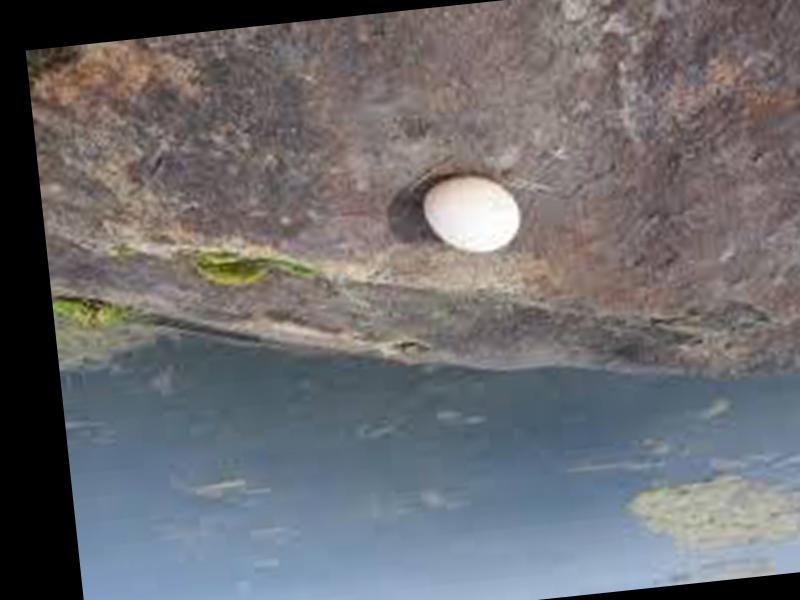Eggs: (422, 172, 528, 259)
